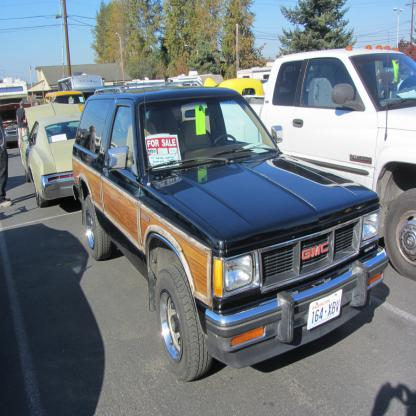Car: (72, 74, 390, 383), (17, 102, 82, 206)
Truck: (181, 30, 415, 282)
